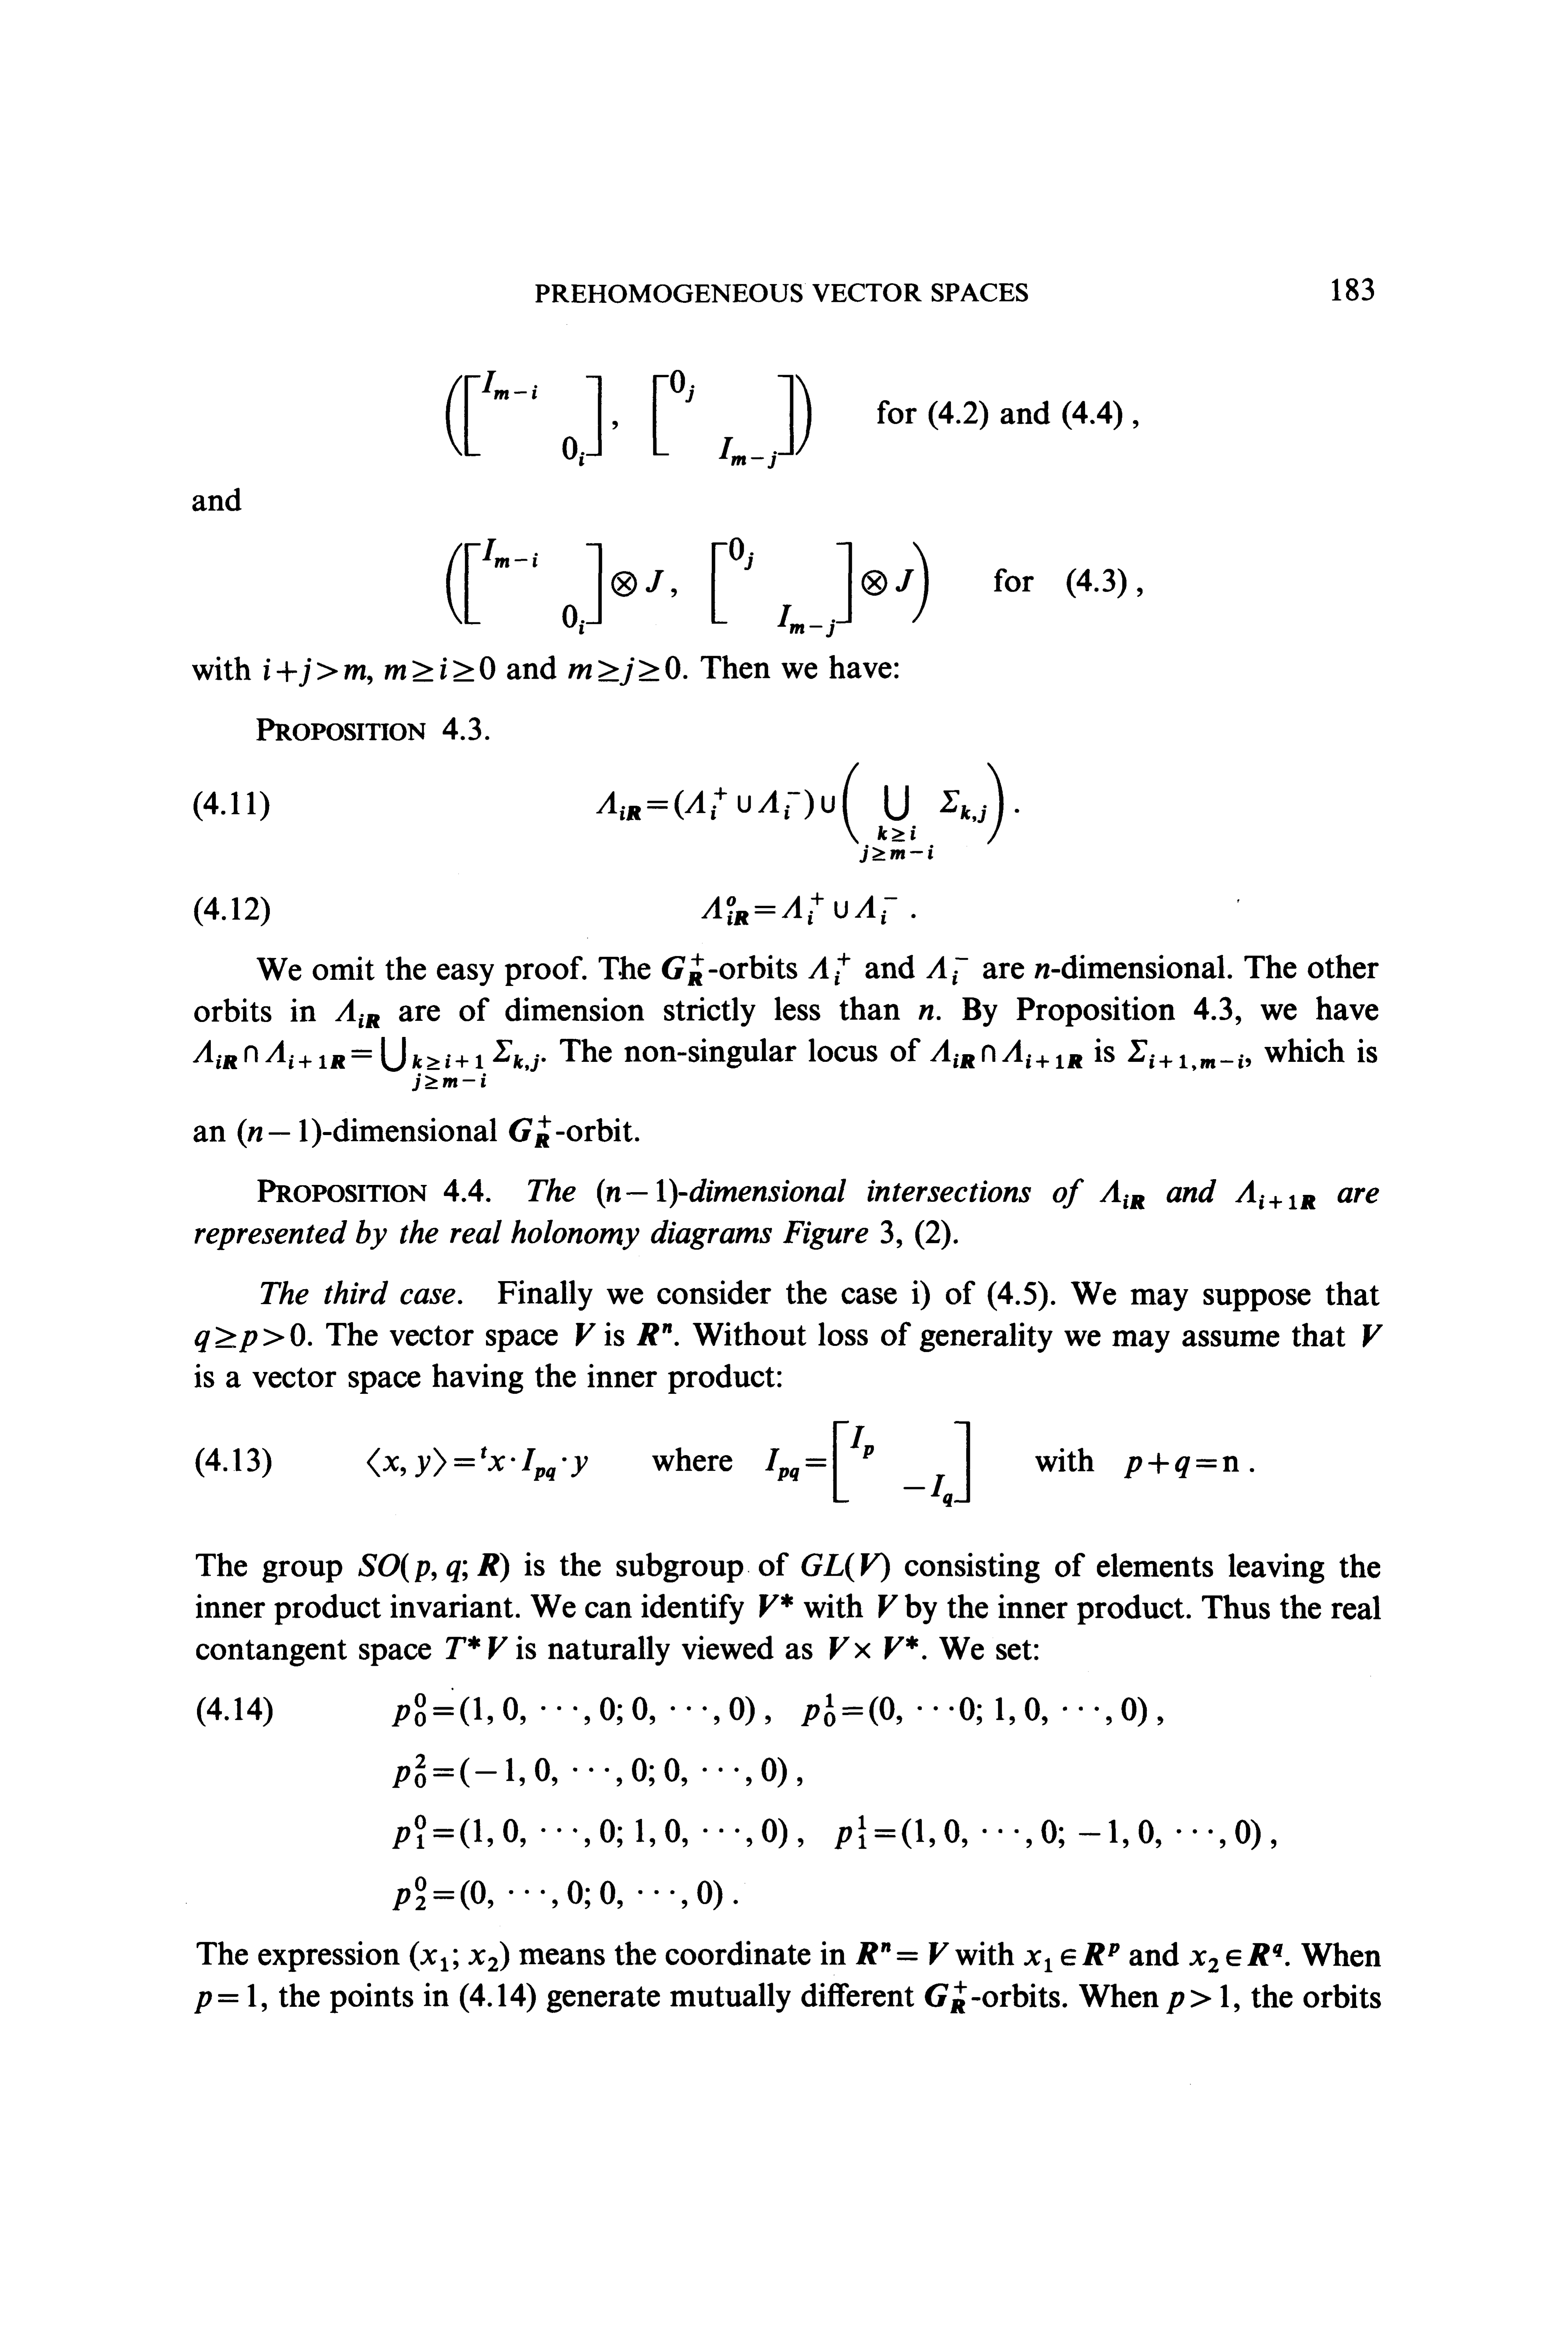maths: (597, 763, 1003, 863), (710, 537, 929, 637), (446, 539, 675, 634), (192, 1036, 539, 1090), (765, 1421, 969, 1507), (446, 371, 618, 466), (653, 369, 812, 469), (835, 1815, 1260, 1850), (392, 1754, 787, 1787), (392, 1815, 787, 1848), (392, 1693, 754, 1726), (801, 1693, 1146, 1726), (392, 1876, 723, 1910), (367, 1446, 588, 1481), (702, 893, 898, 924), (359, 1553, 509, 1582), (931, 1040, 1081, 1068), (1127, 1040, 1244, 1071), (569, 656, 679, 686), (194, 1323, 304, 1351), (409, 1941, 509, 1971), (1024, 1943, 1120, 1973), (264, 658, 366, 686), (1123, 1453, 1239, 1477), (1190, 1943, 1283, 1973), (385, 656, 495, 681), (801, 1553, 889, 1582), (238, 1118, 320, 1148), (597, 1178, 677, 1208), (1235, 1180, 1314, 1210), (829, 1635, 919, 1659), (856, 1943, 948, 1964), (194, 1983, 255, 2013), (1167, 1985, 1228, 2013), (446, 1635, 507, 1659), (661, 952, 703, 985), (808, 952, 850, 985), (1099, 1180, 1144, 1210), (509, 1115, 551, 1146), (334, 999, 380, 1027), (926, 1981, 966, 2013), (926, 956, 957, 985), (759, 1593, 793, 1617), (637, 1323, 672, 1344), (1363, 1323, 1382, 1348), (576, 1323, 595, 1346), (878, 1595, 898, 1617), (1034, 963, 1050, 978), (919, 1005, 933, 1020)
